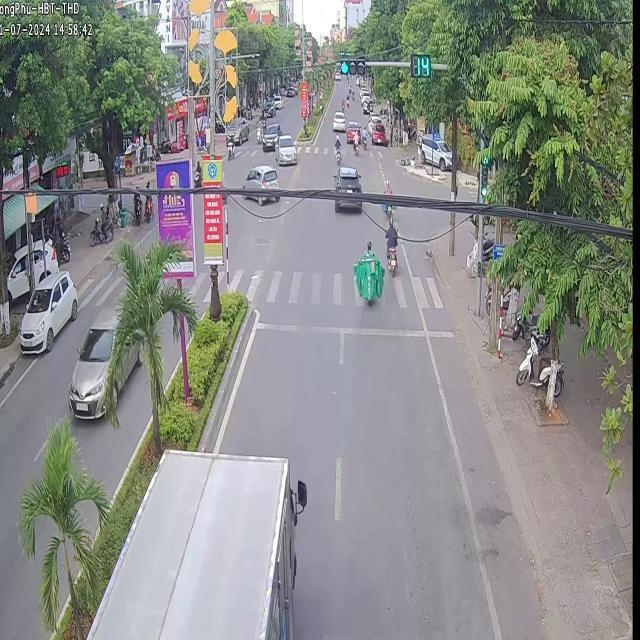car: (92, 449, 299, 637), (67, 307, 116, 416), (17, 269, 77, 351), (118, 342, 139, 385), (242, 162, 277, 187), (332, 165, 359, 194), (333, 196, 360, 209), (254, 194, 270, 202)
green_light: (409, 53, 431, 77), (339, 58, 366, 74), (479, 150, 488, 195)
motobike: (352, 240, 383, 300), (383, 218, 396, 272)
stop_line: (252, 319, 453, 336)
